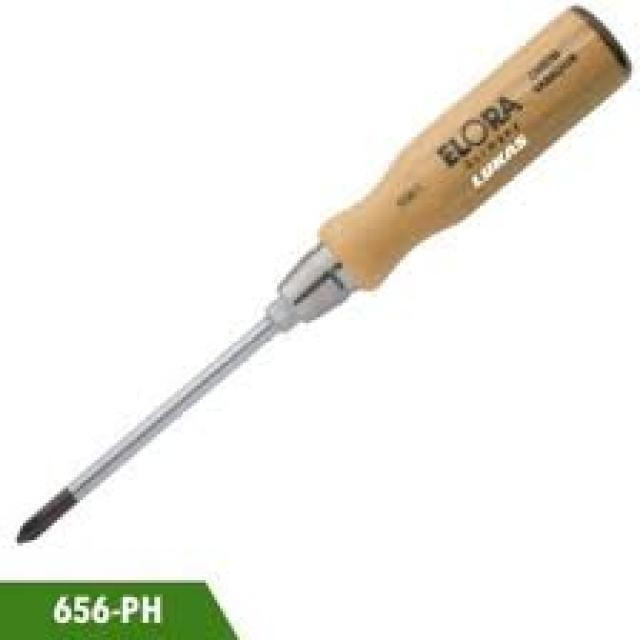screwdriver: (11, 1, 632, 550)
